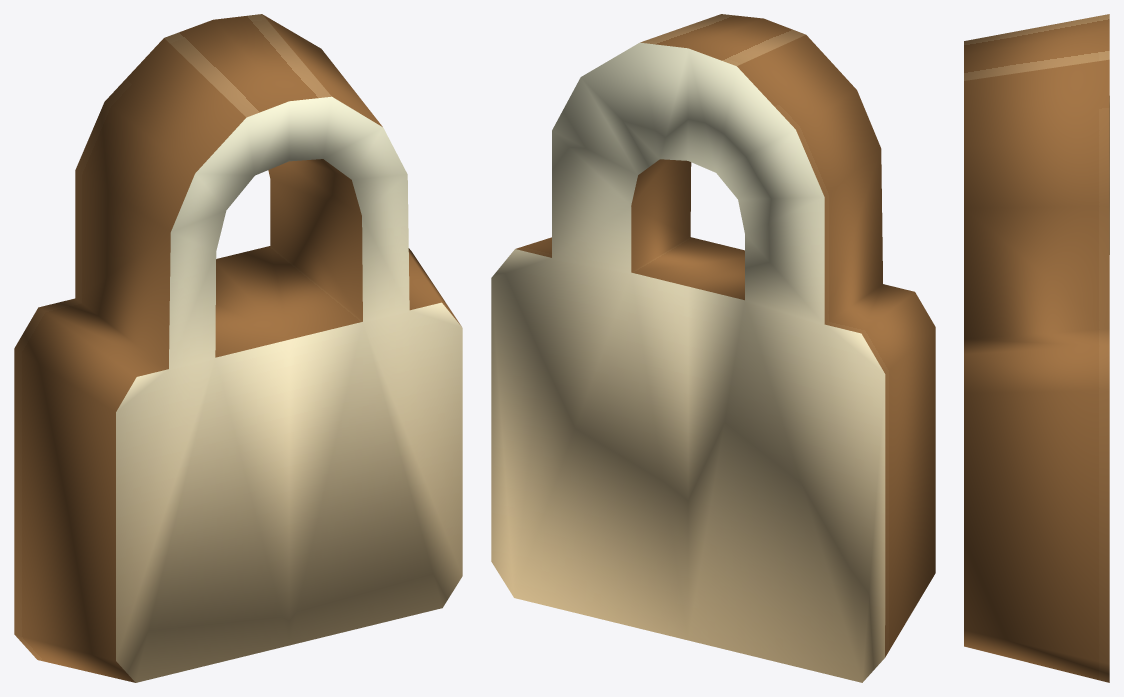
Rendered from jidi_suo.FBX.
3 views of the same model, side by side, from view 1: azimuth 30°, elevation 25°; view 2: azimuth 150°, elevation 25°; view 3: azimuth 270°, elevation 25° (orthographic). The views are drawn at different scales.
Visible parts, largest first — view 1: Plane008; view 2: Plane008; view 3: Plane008.
Part boxes in pixels (<box>): Plane008: <box>14,14,462,682</box>; Plane008: <box>491,14,935,682</box>; Plane008: <box>964,14,1109,682</box>.
Bounding box in the file's own units: 48.42 × 69.55 × 16.13.
